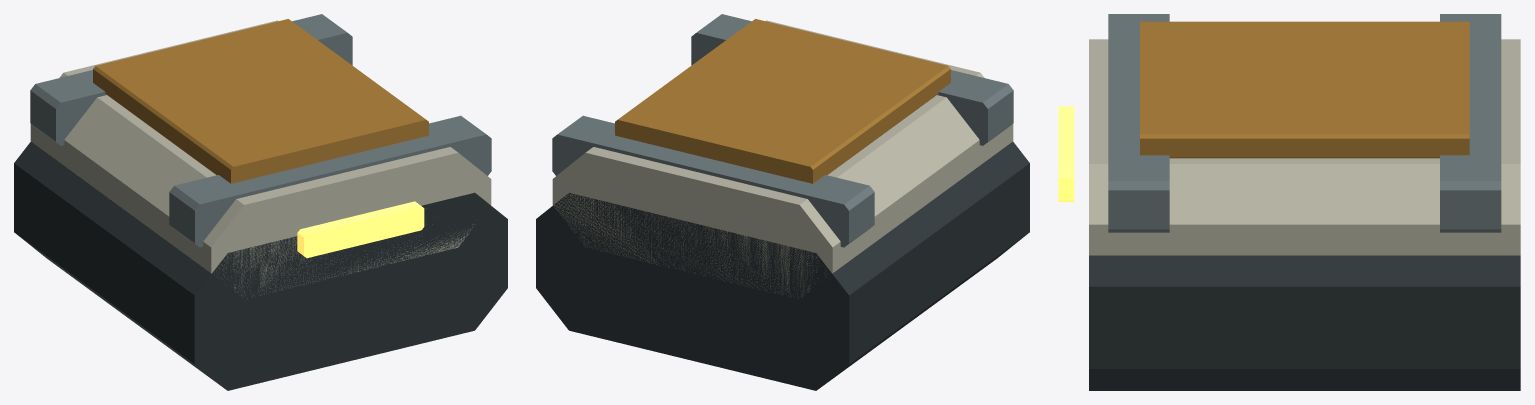
Rendered from capacitor_shoulder.glb.
3 renders of one model, left to right at view 1: azimuth 30°, elevation 25°; view 2: azimuth 150°, elevation 25°; view 3: azimuth 270°, elevation 25°, orthographic. The views are drawn at different scales.
Parts seen in each view (by area): view 1: capacitor_shoulder; view 2: capacitor_shoulder; view 3: capacitor_shoulder.
Part boxes in pixels (<box>): capacitor_shoulder: <box>14,14,507,390</box>; capacitor_shoulder: <box>536,14,1029,390</box>; capacitor_shoulder: <box>1058,14,1520,390</box>.
Bounding box in the file's own units: 0.19 × 0.117 × 0.2035.
